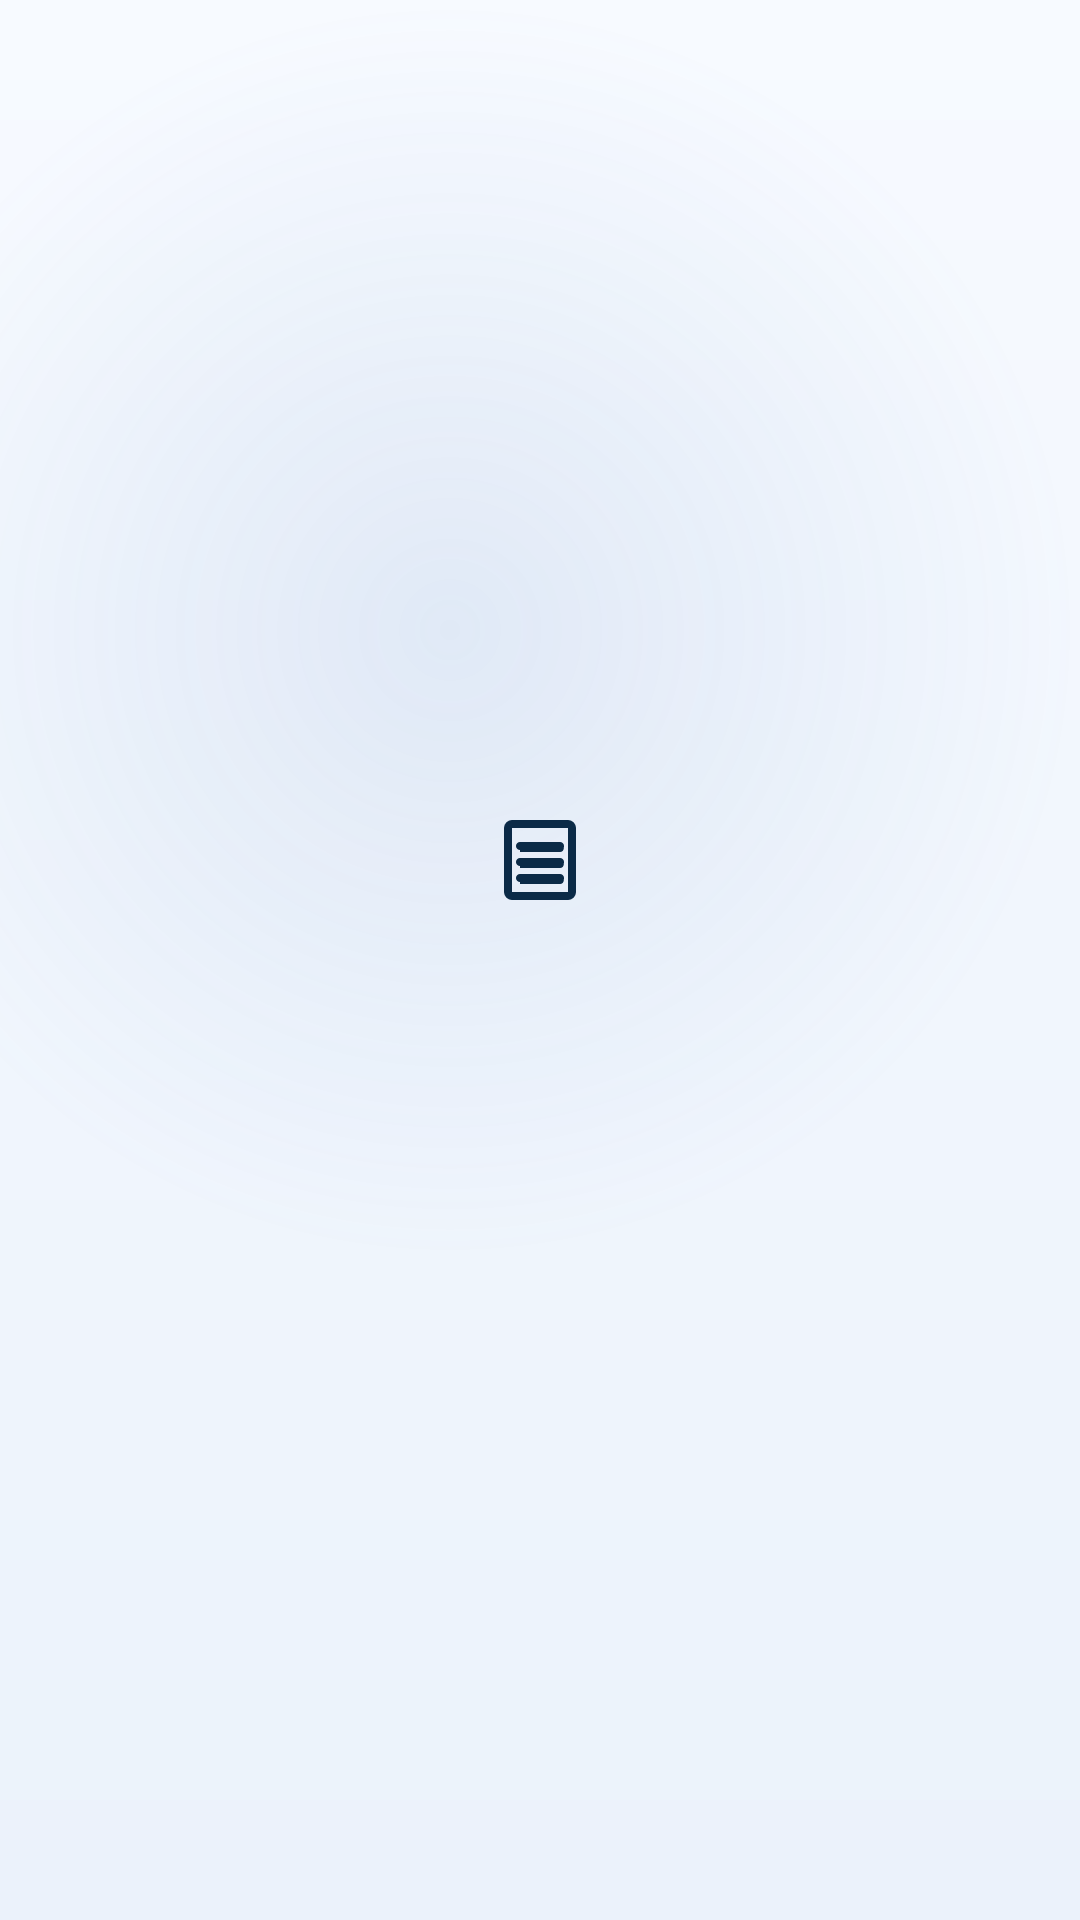

Icons on this 1080*1920 Android screen, each with the point to tap as [x,y]:
transactions: [540,860]
